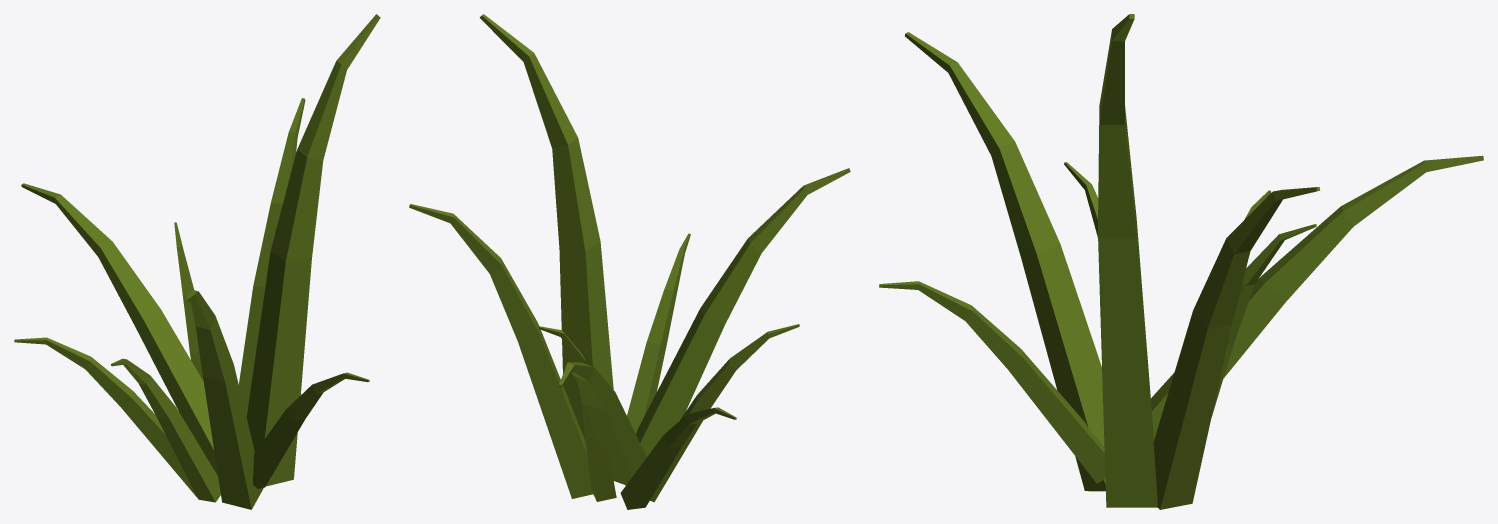
Rendered from Grass.fbx.
3 views of the same model, side by side, from view 1: azimuth 30°, elevation 25°; view 2: azimuth 150°, elevation 25°; view 3: azimuth 270°, elevation 25° (orthographic). The views are drawn at different scales.
Visible parts, largest first — view 1: Cube, Cube.001, Cube.005, Cube.002, Cube.006, Cube.007, Cube.004, Cube.003; view 2: Cube, Cube.005, Cube.002, Cube.001, Cube.004, Cube.007, Cube.006, Cube.003; view 3: Cube, Cube.005, Cube.002, Cube.001, Cube.004, Cube.003.
Part boxes in pixels (bbox=[...]): Cube: bbox=[246, 14, 380, 486]; Cube.001: bbox=[21, 183, 217, 475]; Cube.005: bbox=[184, 289, 263, 509]; Cube.002: bbox=[239, 98, 305, 416]; Cube.006: bbox=[111, 358, 220, 502]; Cube.007: bbox=[14, 337, 196, 496]; Cube.004: bbox=[253, 372, 369, 488]; Cube.003: bbox=[174, 222, 203, 380]; Cube: bbox=[479, 14, 613, 441]; Cube.005: bbox=[620, 168, 850, 483]; Cube.002: bbox=[409, 204, 592, 498]; Cube.001: bbox=[558, 362, 646, 485]; Cube.004: bbox=[627, 233, 690, 433]; Cube.007: bbox=[620, 407, 736, 509]; Cube.006: bbox=[650, 324, 799, 502]; Cube.003: bbox=[538, 326, 616, 501]; Cube: bbox=[1098, 14, 1157, 507]; Cube.005: bbox=[905, 32, 1105, 491]; Cube.002: bbox=[1153, 187, 1320, 509]; Cube.001: bbox=[1151, 155, 1483, 439]; Cube.004: bbox=[879, 281, 1105, 483]; Cube.003: bbox=[1211, 224, 1316, 416].
Size of the model in its own units: 3.55 by 4.87 by 4.71.
